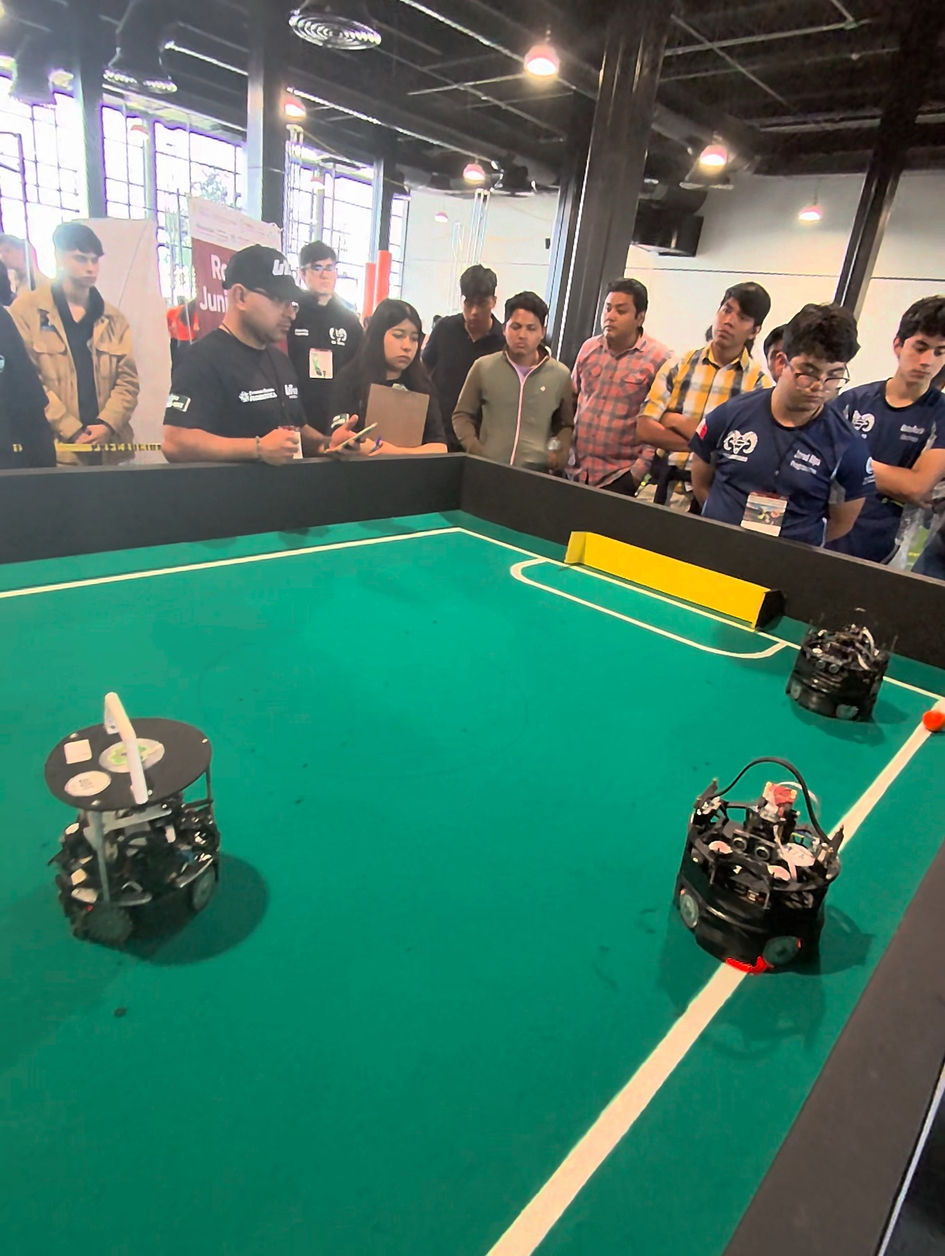Robot: (25, 678, 235, 970), (676, 744, 848, 987), (785, 609, 892, 736)
pelota: (924, 708, 943, 731)
